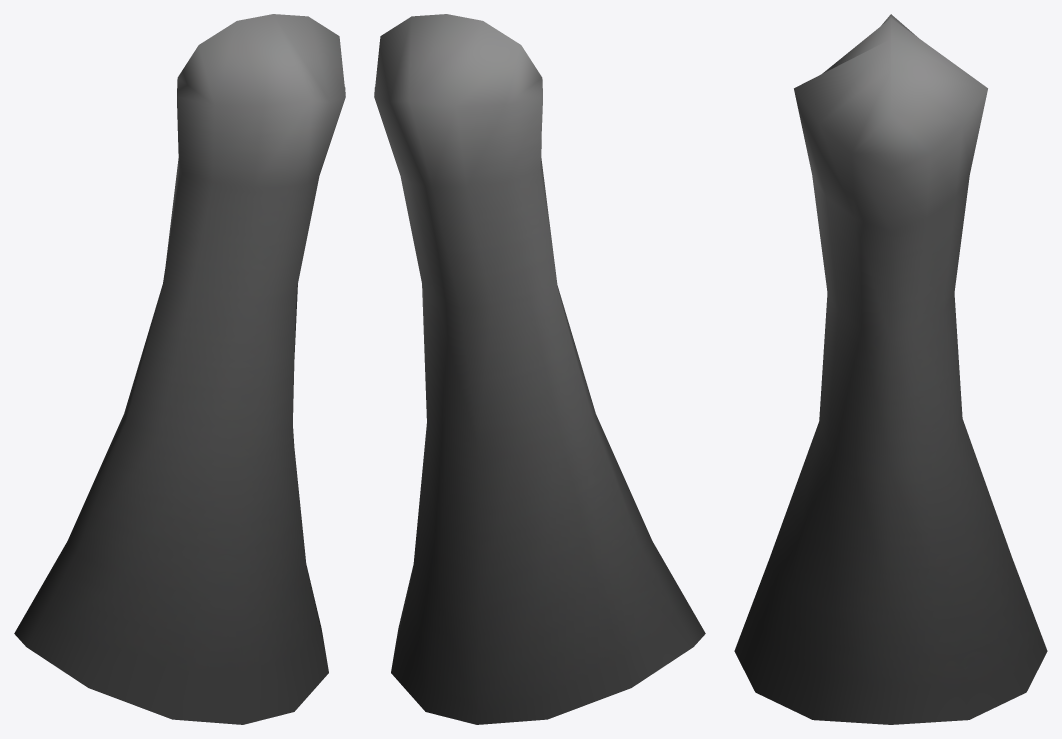
File: Auricular_1.obj
3 renders of one model, left to right at view 1: azimuth 30°, elevation 25°; view 2: azimuth 150°, elevation 25°; view 3: azimuth 270°, elevation 25°, orthographic. The views are drawn at different scales.
Parts seen in each view (by area): view 1: Auricular1; view 2: Auricular1; view 3: Auricular1.
Part boxes in pixels (x1,y1,x2,y2): Auricular1: [14, 14, 345, 724]; Auricular1: [374, 14, 705, 724]; Auricular1: [734, 14, 1047, 724].
Size of the model in its own units: 6.67 by 12.85 by 5.38.
Materials: 1 (1 with a texture image).
